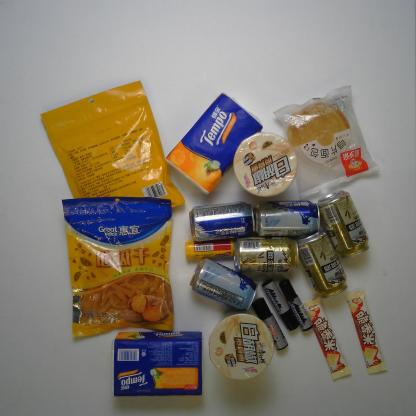Alcohol: (188, 257, 260, 313), (317, 189, 370, 260), (297, 228, 348, 300), (188, 199, 256, 243), (252, 199, 322, 237), (233, 236, 299, 274)
Candy: (184, 238, 236, 261)
Chocolate: (302, 296, 352, 382), (344, 290, 388, 376)
Dessert: (272, 84, 381, 200)
Dried Fruit: (39, 78, 188, 209), (61, 195, 176, 340)
Instant Noodles: (207, 310, 276, 381), (232, 131, 300, 199)
Stationery: (260, 277, 300, 332), (252, 296, 289, 352), (278, 277, 314, 332)
Tissue: (165, 90, 264, 196), (110, 330, 205, 398)
